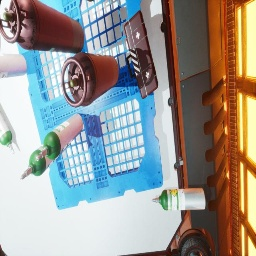0: (35, 113, 83, 161), (20, 143, 70, 180), (152, 188, 206, 211), (0, 54, 27, 78), (0, 111, 15, 154)
FirstAidBox ,: (124, 10, 158, 99), (0, 244, 1, 249)
NitrogenTank ,: (0, 0, 84, 54), (61, 52, 119, 108), (86, 0, 94, 2)
